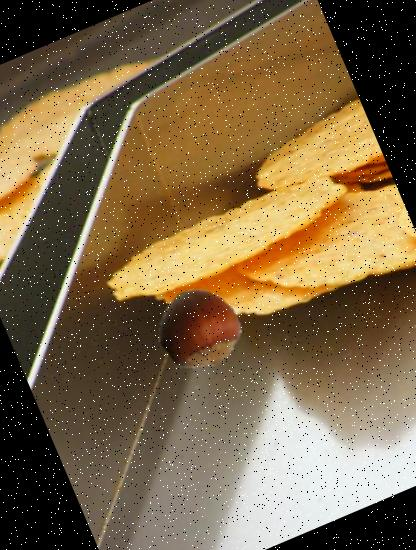Nut: (145, 275, 254, 384)
